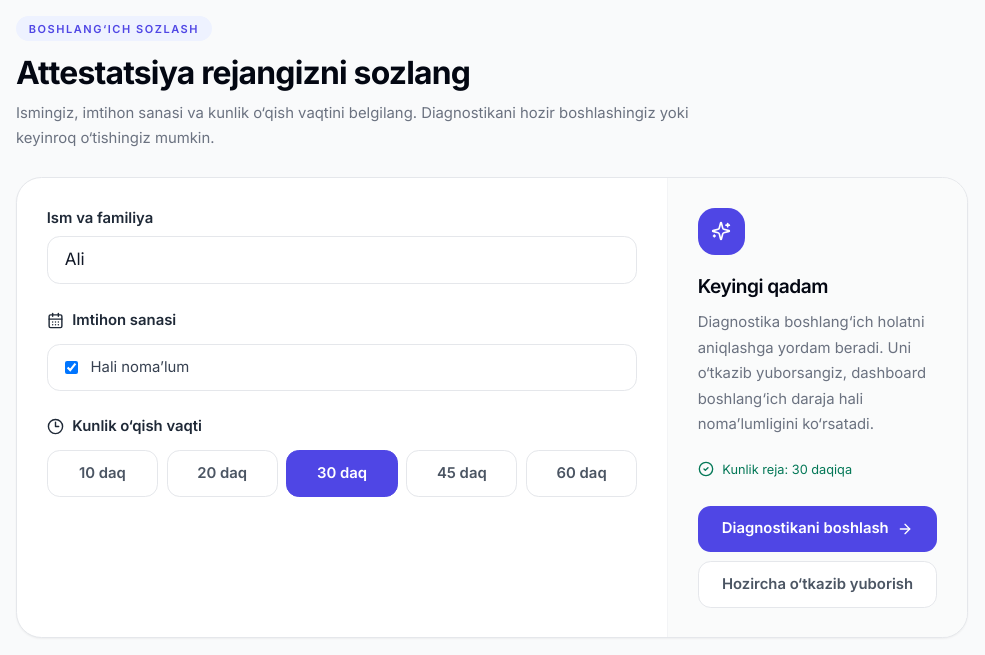
Scenario: OnboardingPage › profil nomi saqlanmasa onboardingni yakunlamaydi
This screenshot has width=985, height=655.
Expected: the field showing "Ali" is shown, [47,236,637,284]
What coordinates should you click on to do the following:
click the button "Hozircha o‘tkazib yuborish"
I would click on:
 (818, 584)
Its box is [698,561,937,608].
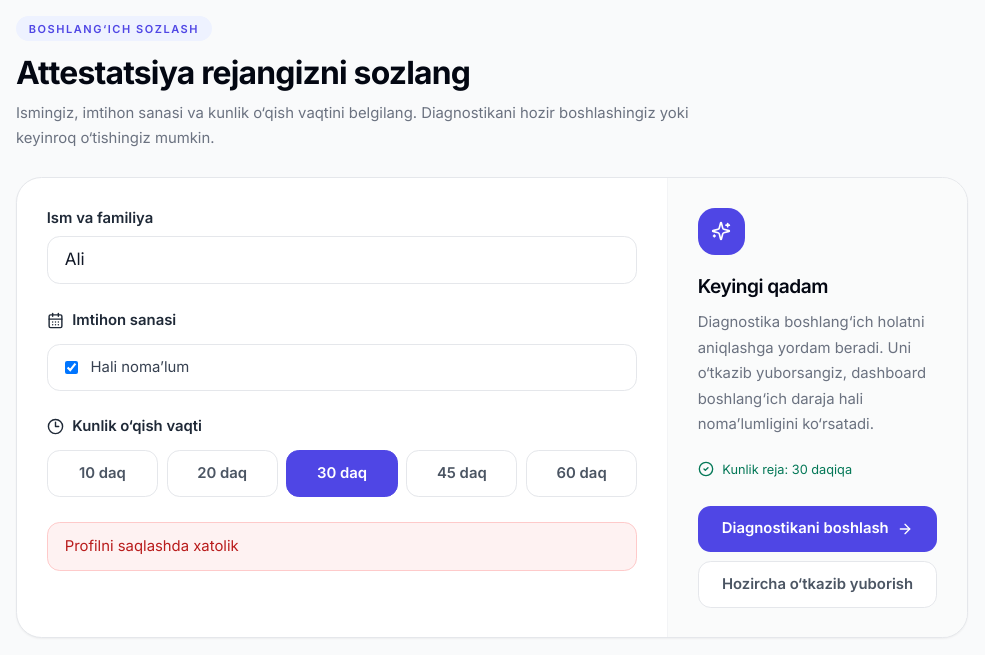
Expected: the message reads "Profilni saqlashda xatolik", [65,537,239,555]
